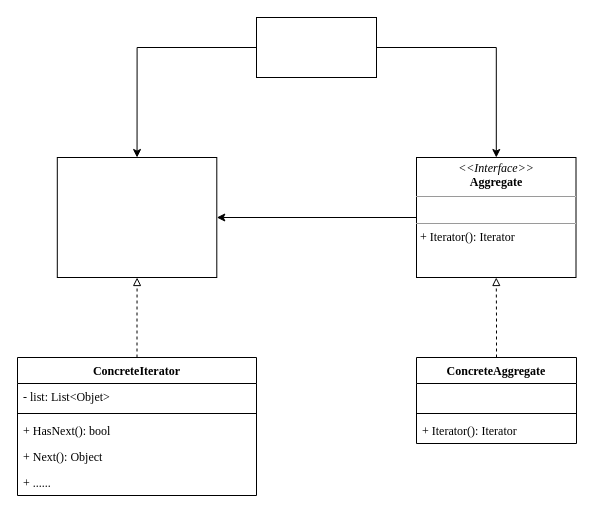
The diagram is 594 pixels wide and 516 high, and some of its shapes have lost their labels. Each missing label, with the centre of its shape:
"<<Interface>> Iterator + HasNext(): bool + Next(): Object + ......" belongs at [136,217].
"Client" belongs at [316,47].
